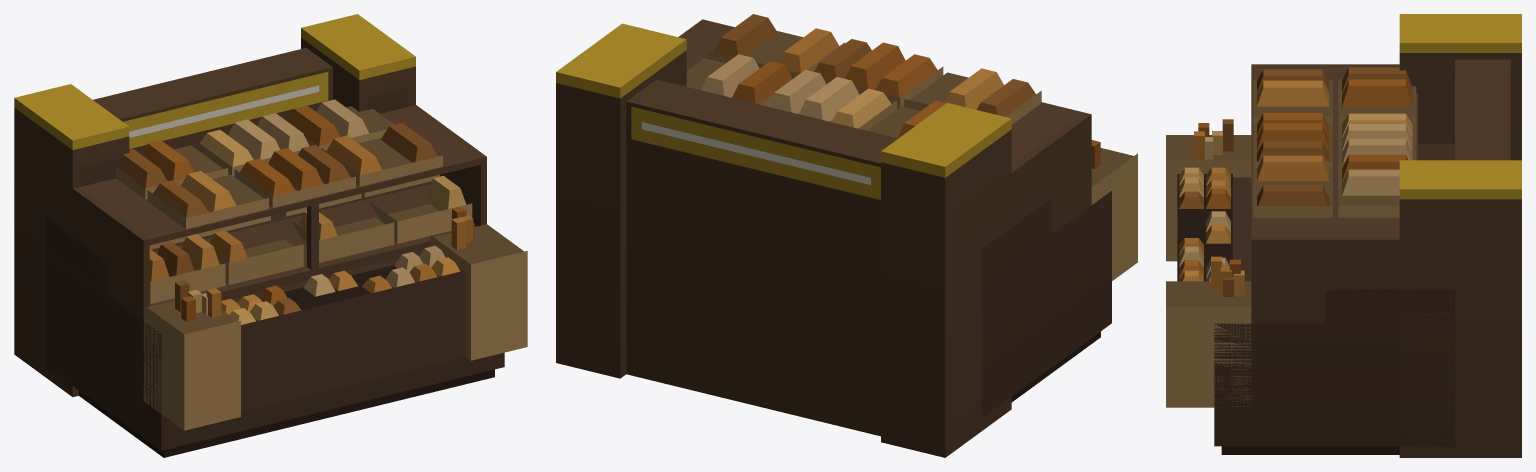
File: shop.bakery_stand.dark.glb
3 renders of one model, left to right at view 1: azimuth 30°, elevation 25°; view 2: azimuth 150°, elevation 25°; view 3: azimuth 270°, elevation 25°, orthographic. The views are drawn at different scales.
Visible parts, largest first — view 1: shop_bakery_stand_dark; view 2: shop_bakery_stand_dark; view 3: shop_bakery_stand_dark.
Boxes of the visible parts, x1,y1,x2,y2 form: shop_bakery_stand_dark: (14,14,527,457); shop_bakery_stand_dark: (556,14,1137,457); shop_bakery_stand_dark: (1166,14,1521,457).
Size of what is drawn, in the model's own units: 2.24 by 1.6 by 1.92.
